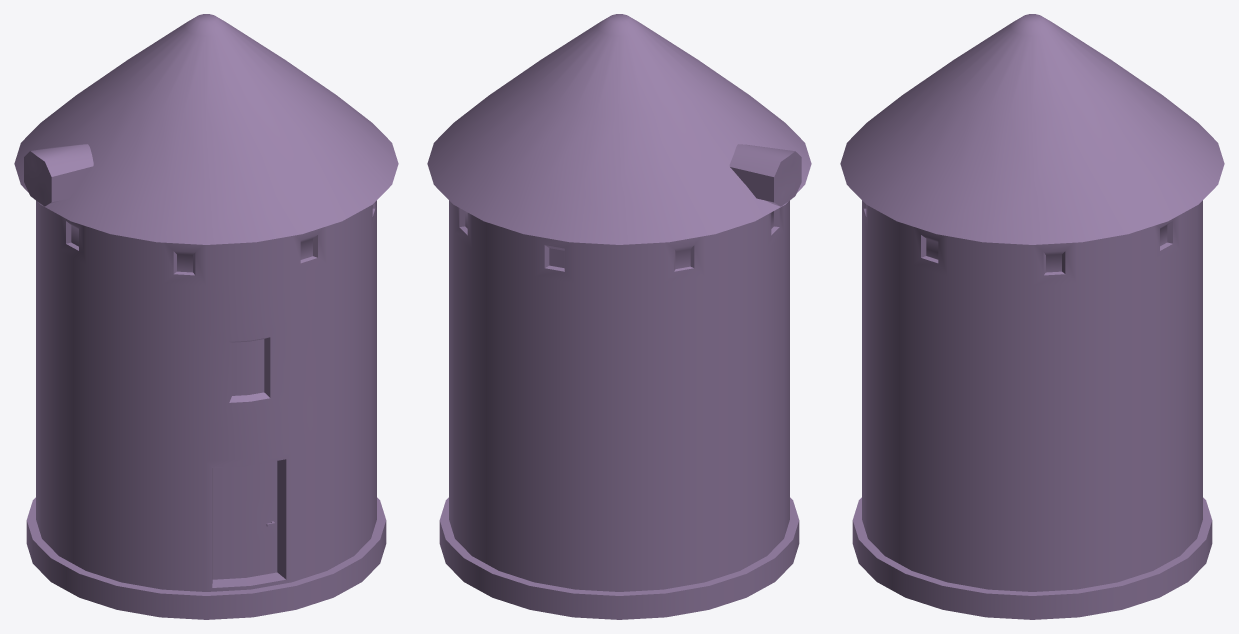
The model's file is SM_Windmill.fbx.
3 views of the same model, side by side, from view 1: azimuth 30°, elevation 25°; view 2: azimuth 150°, elevation 25°; view 3: azimuth 270°, elevation 25° (orthographic).
Visible parts, largest first — view 1: SM_Windmill; view 2: SM_Windmill; view 3: SM_Windmill.
Boxes of the visible parts, left/top/right/bottom form: SM_Windmill: left=14, top=14, right=398, bottom=619; SM_Windmill: left=427, top=14, right=811, bottom=619; SM_Windmill: left=840, top=14, right=1224, bottom=619.
Size of the model in its own units: 776 by 1161 by 770.
